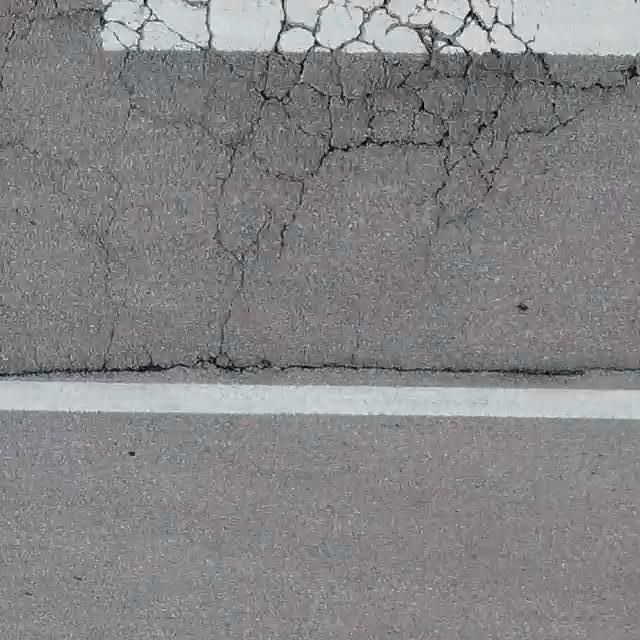GRIETA: (0, 355, 639, 379), (218, 258, 246, 355), (96, 207, 115, 296), (104, 319, 114, 366)
PIEL DE COCODRILO: (0, 0, 639, 266)
